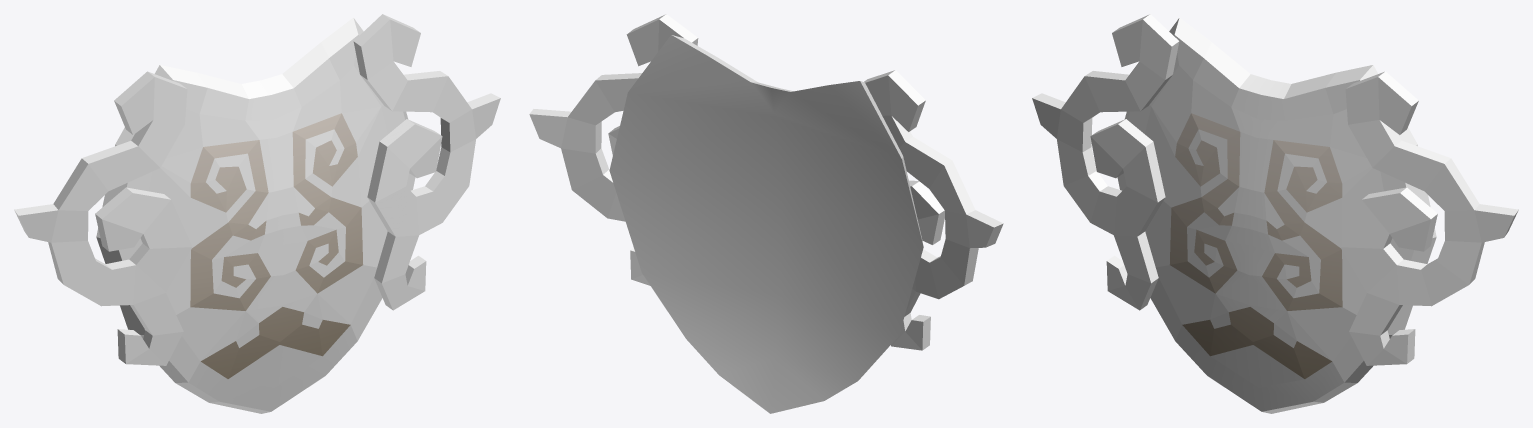
The model's file is shield.fbx.
The picture shows the model from 3 angles, left to right: view 1: azimuth 30°, elevation 25°; view 2: azimuth 150°, elevation 25°; view 3: azimuth 330°, elevation 25°; orthographic projection. The views are drawn at different scales.
Visible parts, largest first — view 1: shield; view 2: shield; view 3: shield.
Boxes of the visible parts, x1,y1,x2,y2 form: shield: (14, 14, 500, 413); shield: (529, 14, 1003, 413); shield: (1032, 14, 1518, 413).
Bounding box in the file's own units: 25.7 × 19.02 × 2.89.
